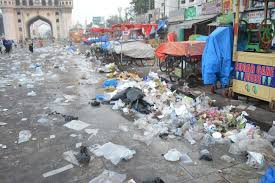garbage: (62, 122, 137, 182), (138, 94, 217, 137), (103, 72, 167, 107), (206, 109, 260, 150)
